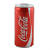coke: (17, 15, 30, 44)
